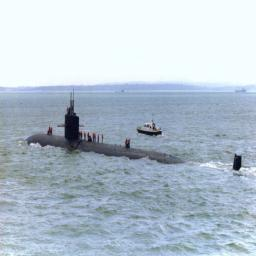submarine: (25, 88, 242, 170)
